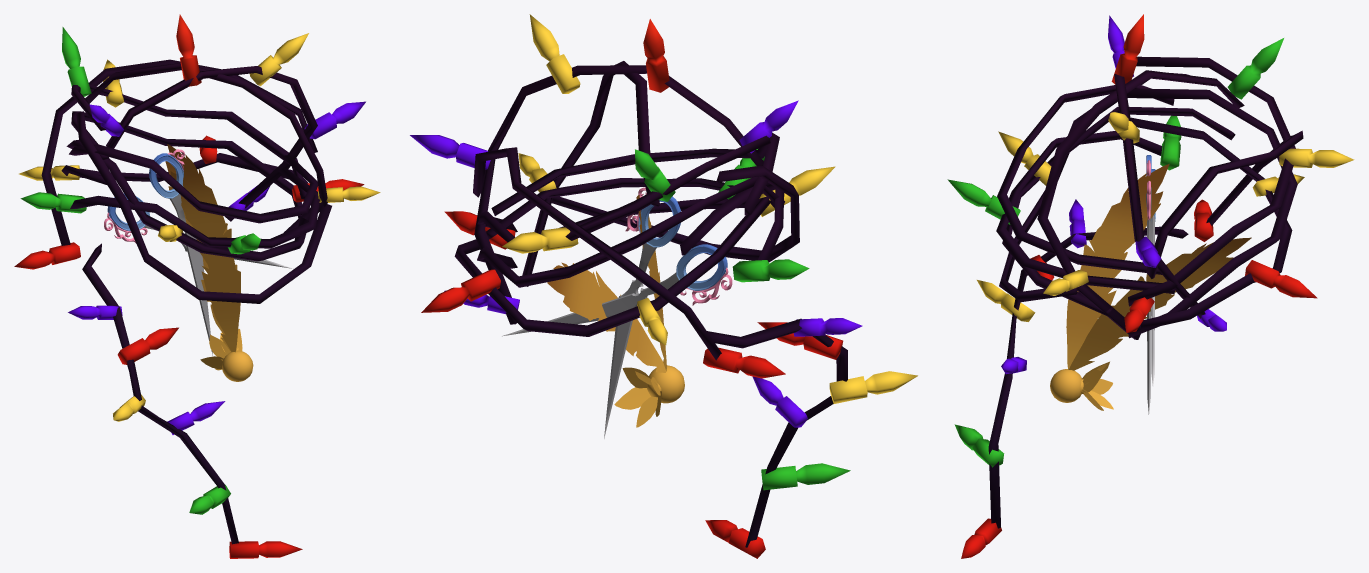
File: ObbyGame_Characters_hatAccs_.fbx
3 views of the same model, side by side, from view 1: azimuth 30°, elevation 25°; view 2: azimuth 150°, elevation 25°; view 3: azimuth 270°, elevation 25° (orthographic). The views are drawn at different scales.
Visible parts, largest first — view 1: ObbyGame_Characters_hatAcc_001, ObbyGame_Characters_hatAcc_000, ObbyGame_Characters_hatAcc_002; view 2: ObbyGame_Characters_hatAcc_001, ObbyGame_Characters_hatAcc_000, ObbyGame_Characters_hatAcc_002; view 3: ObbyGame_Characters_hatAcc_001, ObbyGame_Characters_hatAcc_000, ObbyGame_Characters_hatAcc_002.
Boxes of the visible parts, bbox=[...] form: ObbyGame_Characters_hatAcc_001: bbox=[14, 14, 380, 558]; ObbyGame_Characters_hatAcc_000: bbox=[165, 144, 253, 381]; ObbyGame_Characters_hatAcc_002: bbox=[104, 149, 293, 355]; ObbyGame_Characters_hatAcc_001: bbox=[410, 14, 917, 558]; ObbyGame_Characters_hatAcc_000: bbox=[547, 195, 684, 427]; ObbyGame_Characters_hatAcc_002: bbox=[502, 187, 732, 438]; ObbyGame_Characters_hatAcc_001: bbox=[947, 14, 1354, 558]; ObbyGame_Characters_hatAcc_000: bbox=[1050, 164, 1251, 410]; ObbyGame_Characters_hatAcc_002: bbox=[1146, 155, 1155, 414].
Size of the model in its own units: 282 by 392 by 272.
Materials: 1 (1 with a texture image).
